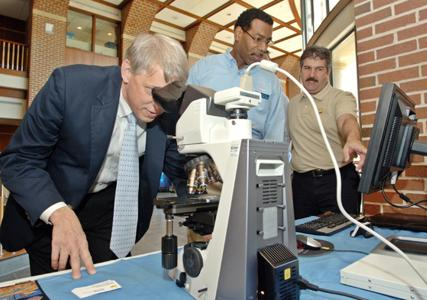person: (2, 34, 192, 282)
